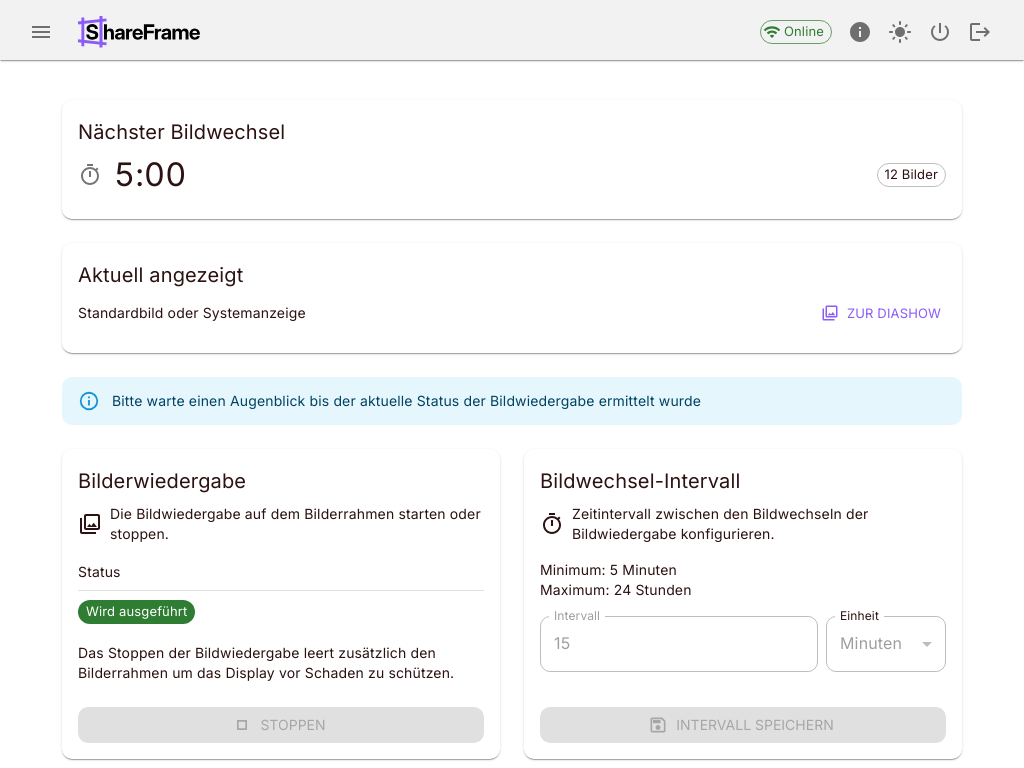
Test: navigation › switches the color mode and remembers it
Click the button named "Wechsel in den dunklen Modus".
click(900, 32)  # box 880,12 -> 920,52
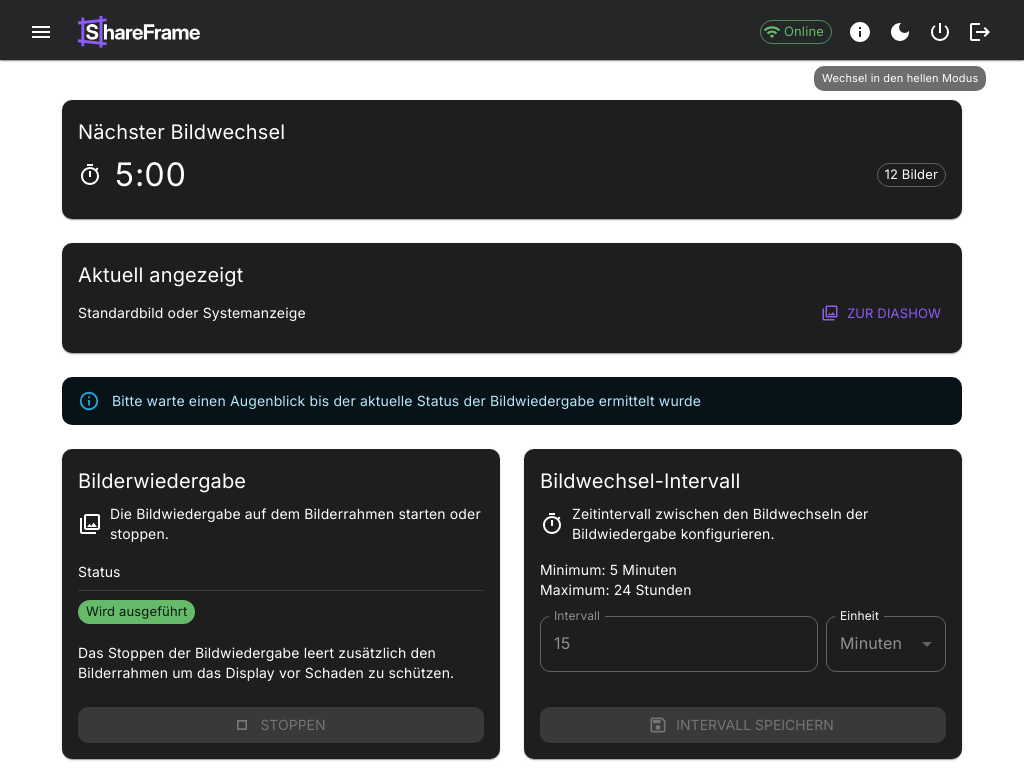
Expected: the button named "Wechsel in den hellen Modus" is shown, 880,12 -> 920,52
